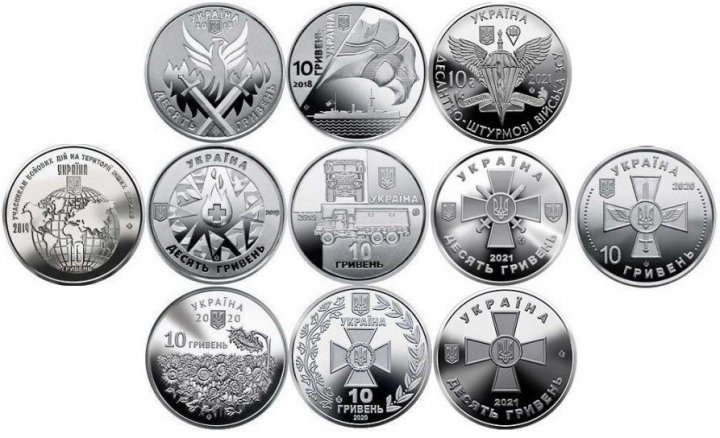coin: (148, 286, 288, 432), (290, 284, 433, 426), (574, 144, 715, 287), (142, 3, 284, 144), (143, 146, 287, 284), (434, 288, 575, 428), (2, 146, 142, 286), (430, 8, 573, 143), (288, 3, 426, 142), (285, 145, 429, 278), (432, 150, 570, 286)
